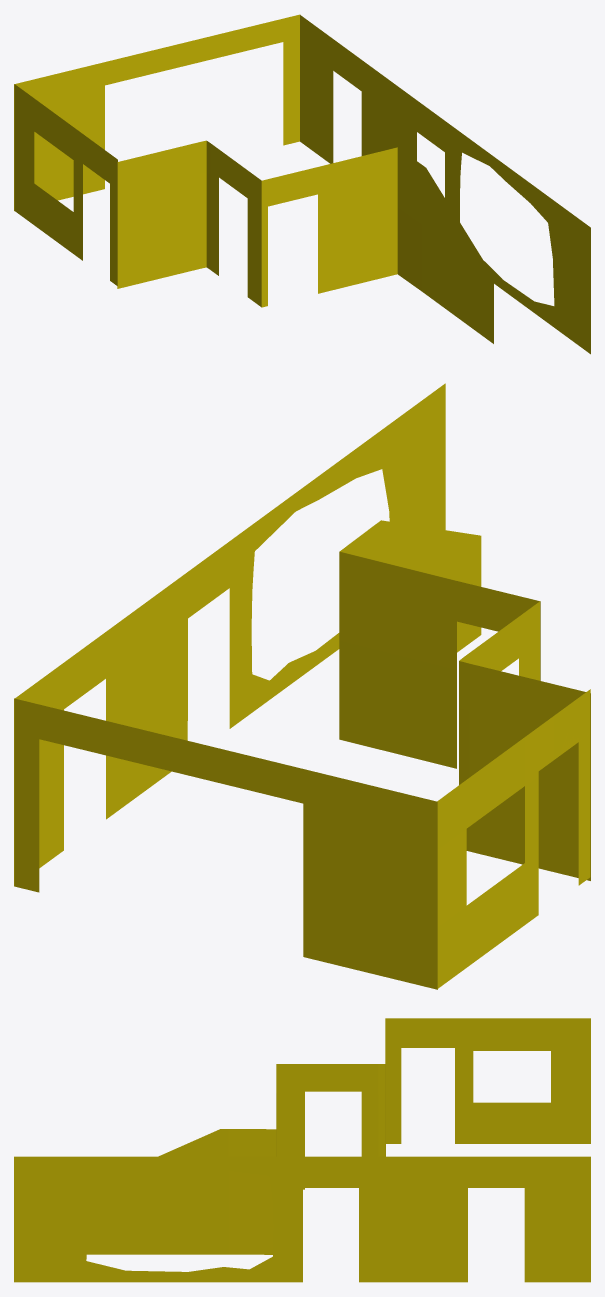
File: BH04B_WP_06_Break.fbx
3 views of the same model, one above another, from view 1: azimuth 30°, elevation 25°; view 2: azimuth 150°, elevation 25°; view 3: azimuth 270°, elevation 25° (orthographic). The views are drawn at different scales.
Parts seen in each view (by area): view 1: BH04B_WP_06_Break; view 2: BH04B_WP_06_Break; view 3: BH04B_WP_06_Break.
Boxes of the visible parts, <box> form: BH04B_WP_06_Break: <box>14,14,590,354</box>; BH04B_WP_06_Break: <box>14,383,590,989</box>; BH04B_WP_06_Break: <box>14,1018,590,1282</box>.
Bounding box in the file's own units: 708 × 306 × 1248.
